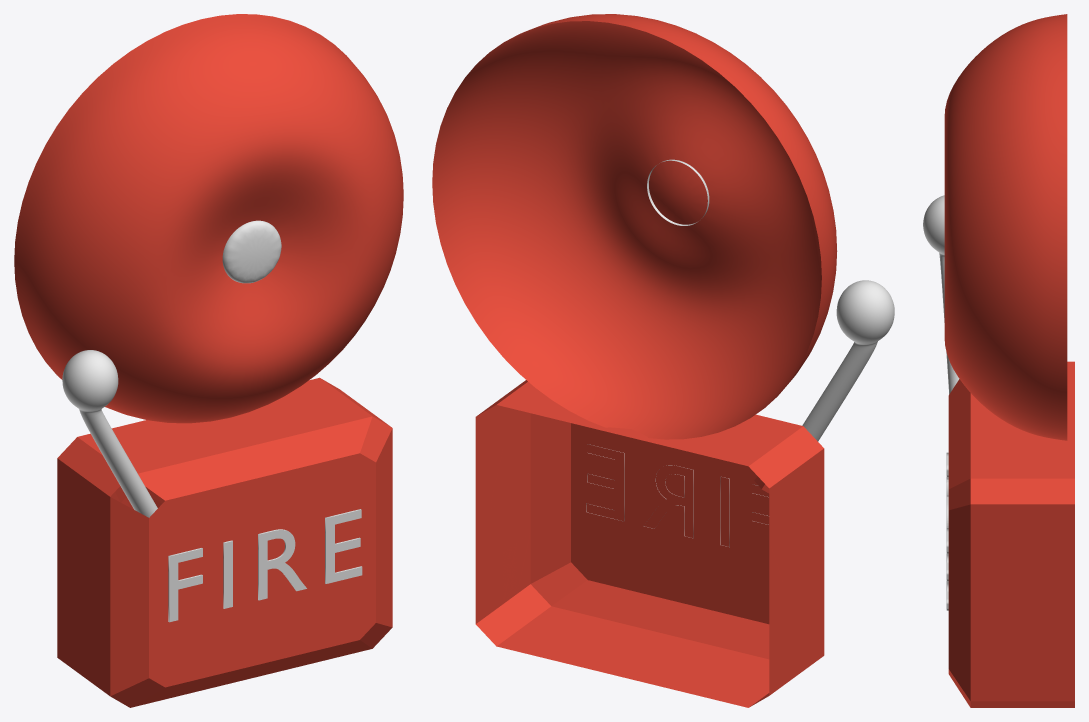
The model's file is FireAlarm.fbx.
3 views of the same model, side by side, from view 1: azimuth 30°, elevation 25°; view 2: azimuth 150°, elevation 25°; view 3: azimuth 270°, elevation 25° (orthographic). The views are drawn at different scales.
Visible parts, largest first — view 1: Fire Alarm; view 2: Fire Alarm; view 3: Fire Alarm.
Part boxes in pixels (box(x1,y1,x2,y2)): Fire Alarm: box(14, 14, 403, 707); Fire Alarm: box(432, 14, 894, 707); Fire Alarm: box(923, 14, 1074, 707).
Bounding box in the file's own units: 331 × 516 × 115.
